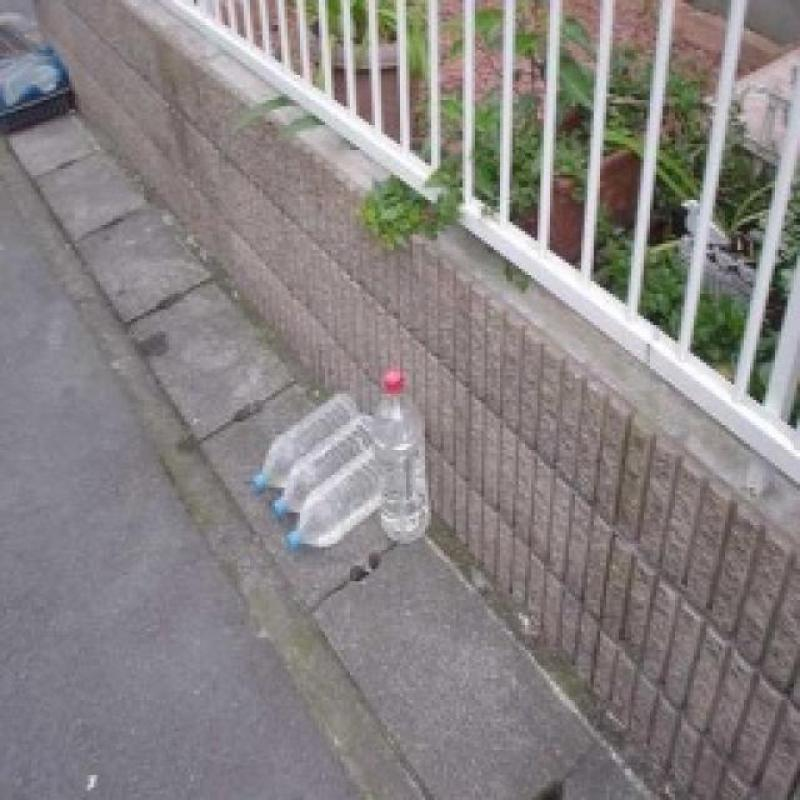botella: (253, 392, 362, 498), (372, 373, 434, 552), (273, 415, 377, 520), (286, 447, 383, 553)
